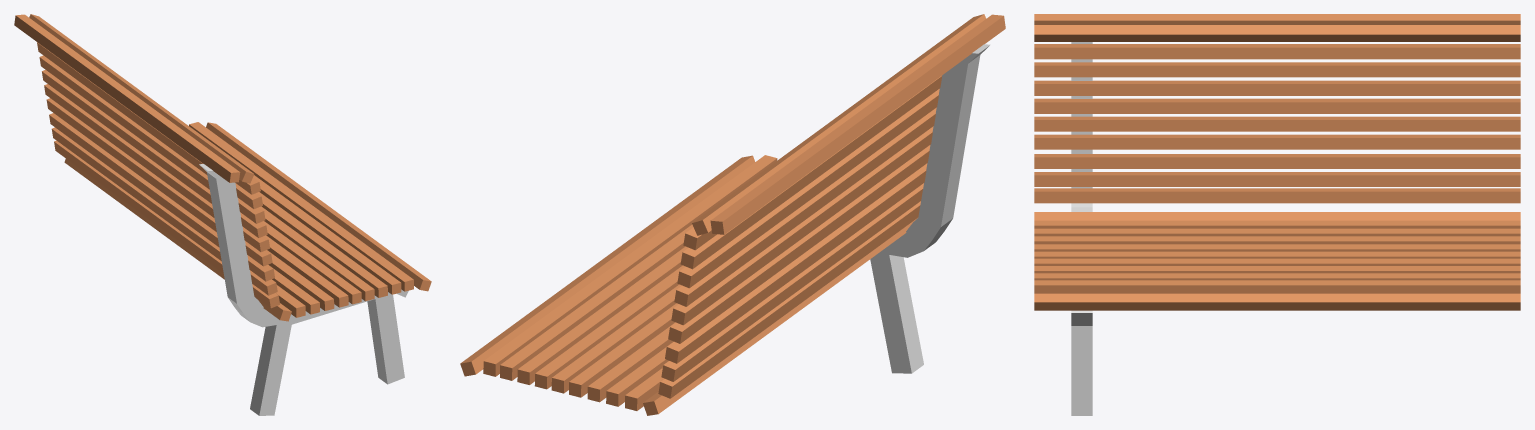
The model's file is bench1.dae.
3 renders of one model, left to right at view 1: azimuth 30°, elevation 25°; view 2: azimuth 150°, elevation 25°; view 3: azimuth 270°, elevation 25°, orthographic. The views are drawn at different scales.
Visible parts, largest first — view 1: Cube.001, Cube.002, Cube; view 2: Cube.002, Cube.001, Cube; view 3: Cube.002, Cube.001, Cube.
Boxes of the visible parts, <box> form: Cube.001: <box>122,93,431,321</box>; Cube.002: <box>14,14,323,240</box>; Cube: <box>199,164,408,415</box>; Cube.002: <box>460,117,864,415</box>; Cube.001: <box>601,14,1005,310</box>; Cube: <box>870,44,990,373</box>; Cube.002: <box>1277,14,1520,310</box>; Cube.001: <box>1034,14,1277,310</box>; Cube: <box>1071,42,1092,415</box>.
Size of the model in its own units: 4.44 by 8 by 5.52.
